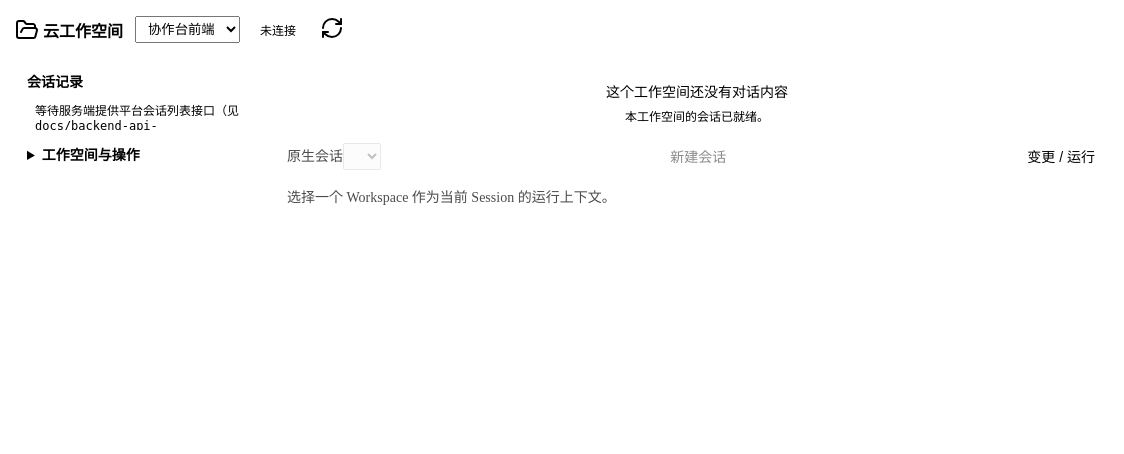
it: 2-1 三栏工作空间四种布局预设 › 三栏始终挂载：可见性变化不卸载组件、不触发任何重新读取
Click the button with aria-label "打开变更与运行面板" at (1061, 156), box [1015,142,1107,170]
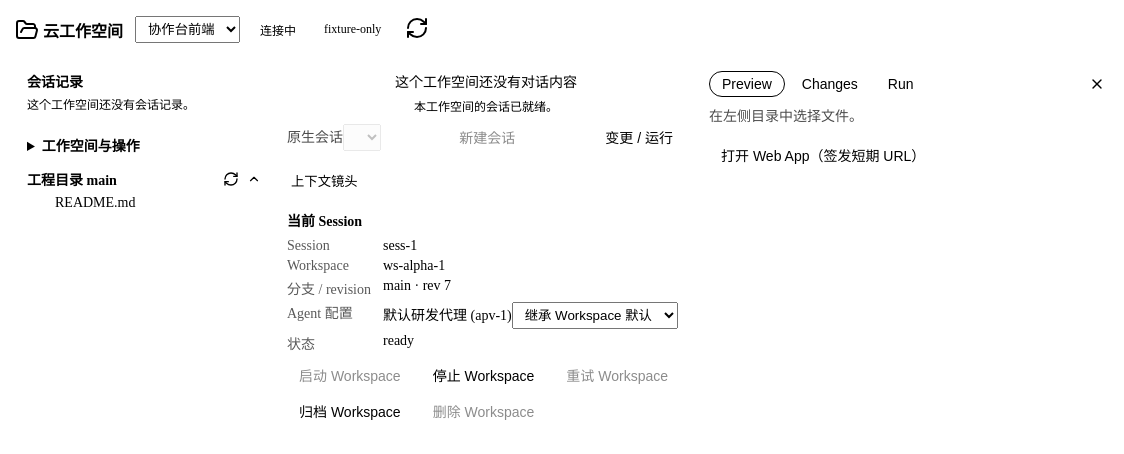
Click the tab "Run" at (901, 84), box [875,71,926,97]
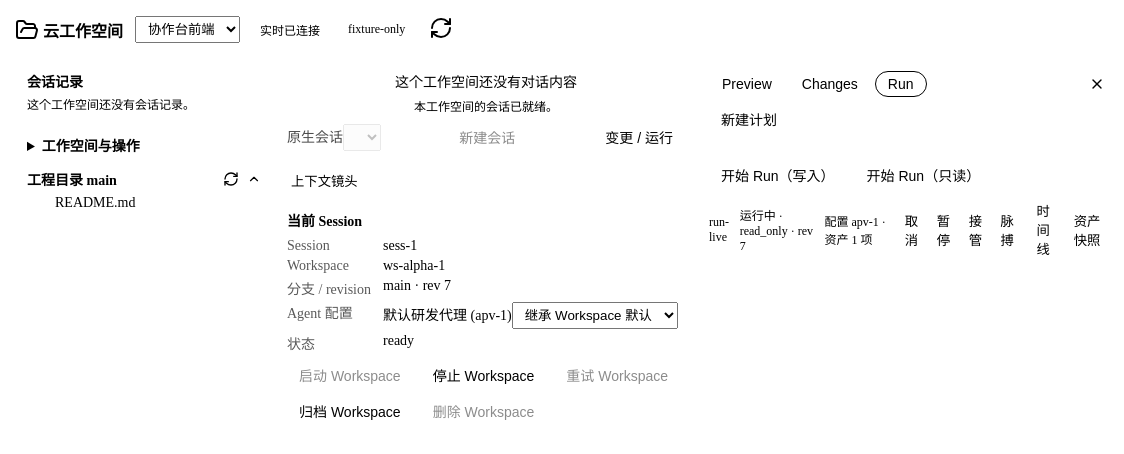
Check: the element named "workspace-tree" is shown, box [27,75,263,213]
Check: the element named "workspace-panels" is shown, box [709,71,1107,262]
Check: the text "run-live" is shown, box [709,214,732,244]
